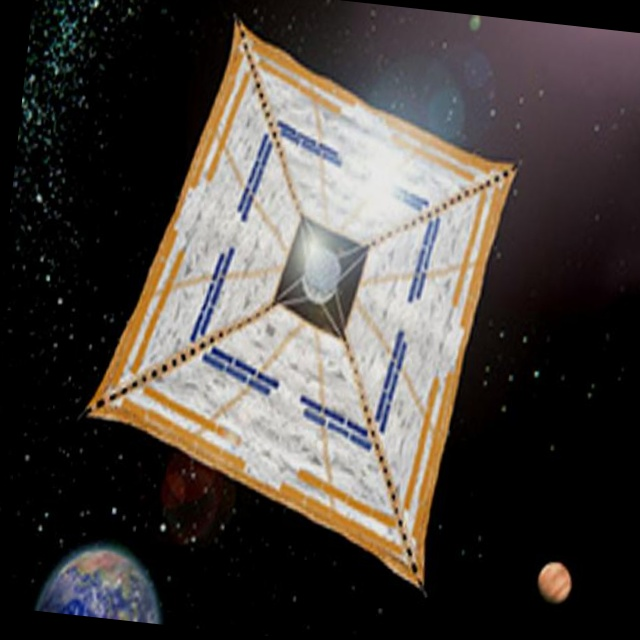large_debris: (529, 524, 581, 625)
satellite: (40, 0, 549, 608)
